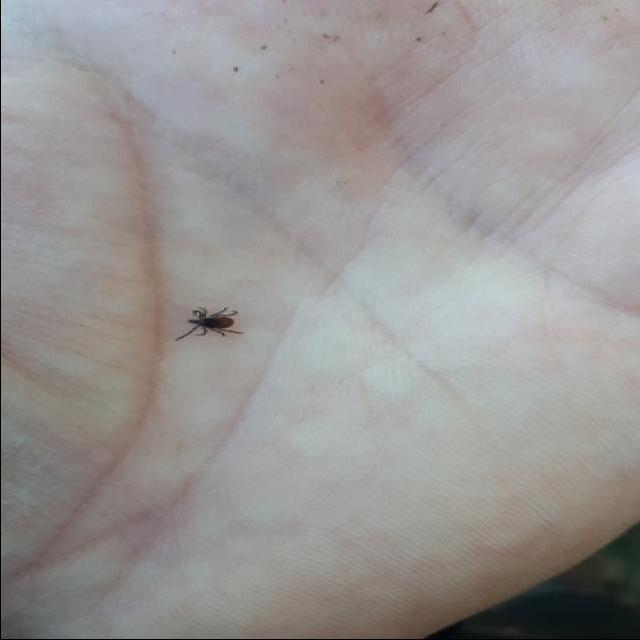Ixodes Ricinus-F: (171, 302, 244, 346)
